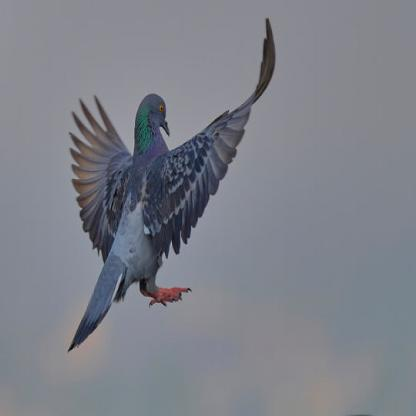Rock Pigeon: (35, 21, 280, 360)
